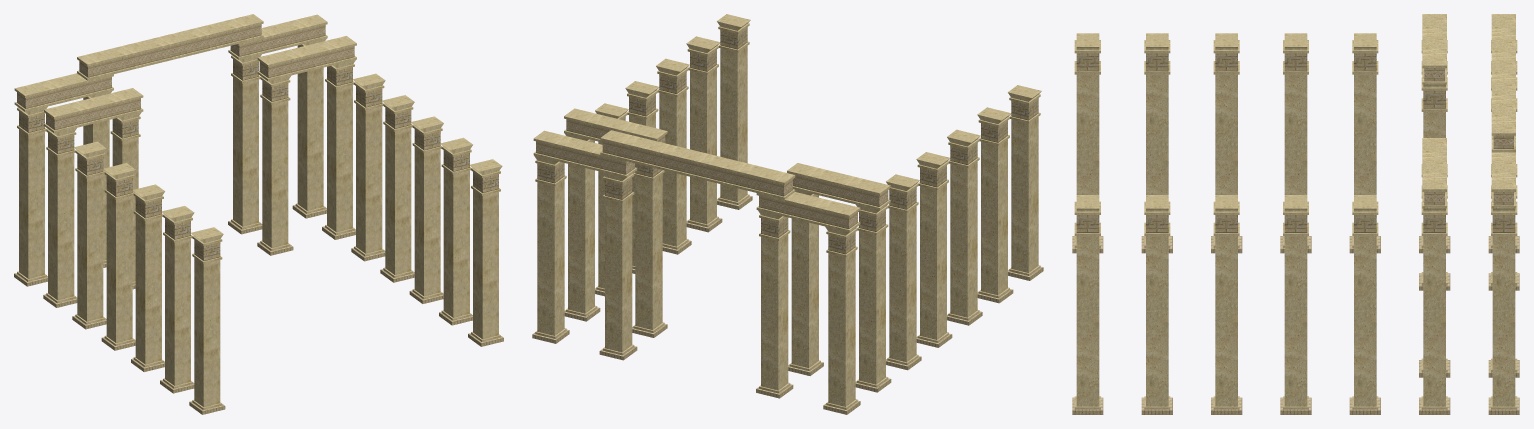
The model's file is bridge_structure_final_gate_pillars_multi.dae.
3 renders of one model, left to right at view 1: azimuth 30°, elevation 25°; view 2: azimuth 150°, elevation 25°; view 3: azimuth 270°, elevation 25°, orthographic. The views are drawn at different scales.
Parts seen in each view (by area): view 1: bridge_structure_final_gate_pillars_multi; view 2: bridge_structure_final_gate_pillars_multi; view 3: bridge_structure_final_gate_pillars_multi.
Boxes of the visible parts, x1,y1,x2,y2 form: bridge_structure_final_gate_pillars_multi: (14, 14, 503, 414); bridge_structure_final_gate_pillars_multi: (532, 14, 1043, 414); bridge_structure_final_gate_pillars_multi: (1072, 14, 1519, 414).
Size of the model in its own units: 32 by 34.49 by 20.83.
Materials: 5 (5 with a texture image).
